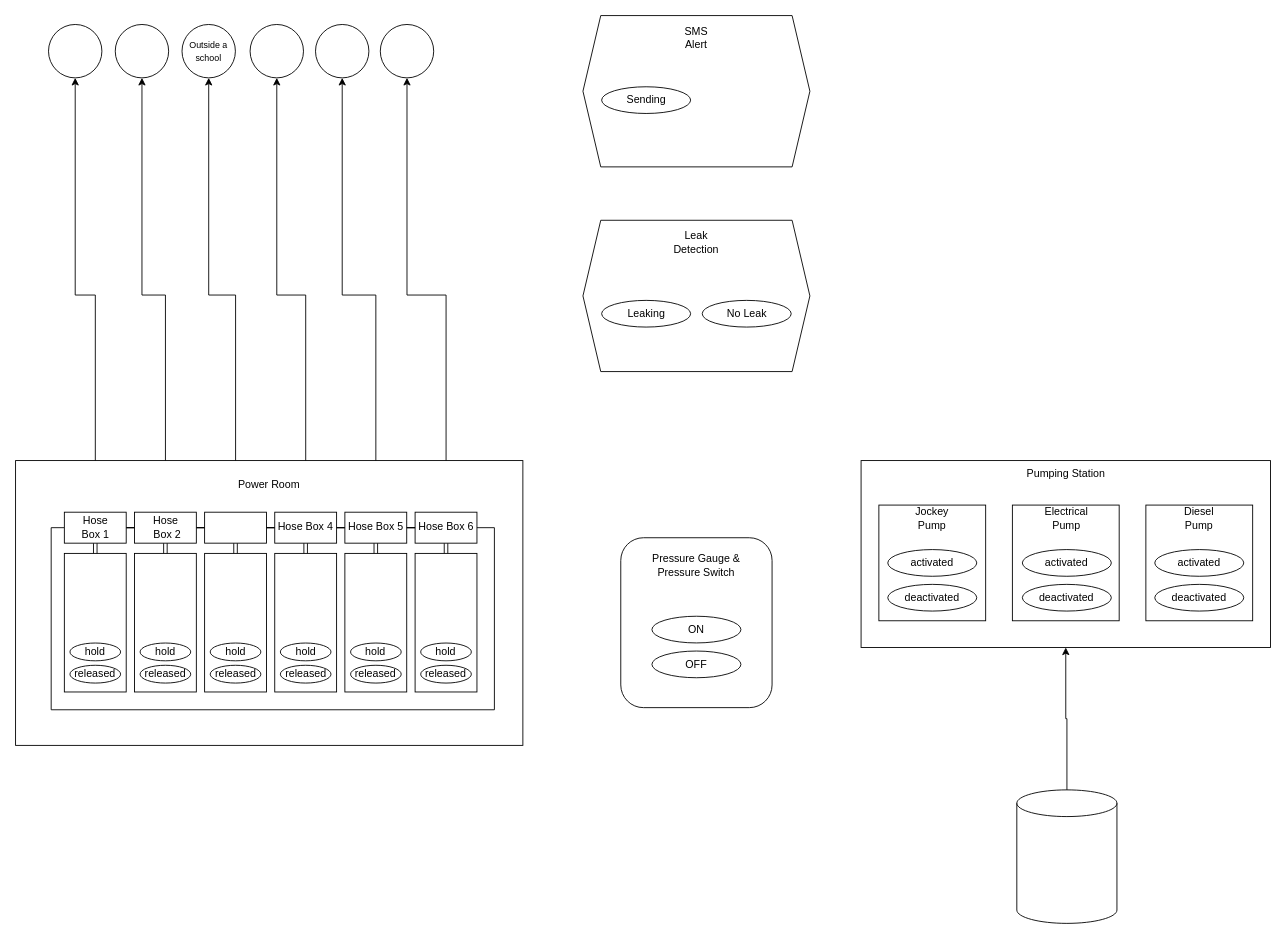
Image size: 1286x939. Some labels were removed from this diagram. Here are the shapes that lost their labels. From the top down, the box of each, then its label:
(48, 24, 102, 78): Decommissioned Building 1
(114, 24, 169, 78): Decommissioned Building 2
(249, 24, 303, 78): Road-side
(315, 24, 369, 78): Residential Building 1
(379, 24, 434, 78): Residential Building 2
(204, 511, 266, 543): Hose Box 3
(63, 553, 126, 692): Hydrant Valve 1
(134, 553, 196, 692): Hydrant Valve 2
(204, 553, 266, 692): Hydrant Valve 3
(274, 553, 337, 692): Hydrant Valve 4
(344, 553, 407, 692): Hydrant Valve 5
(414, 553, 477, 692): Hydrant Valve 6
(1016, 789, 1117, 923): Firewall (Water Tank)
